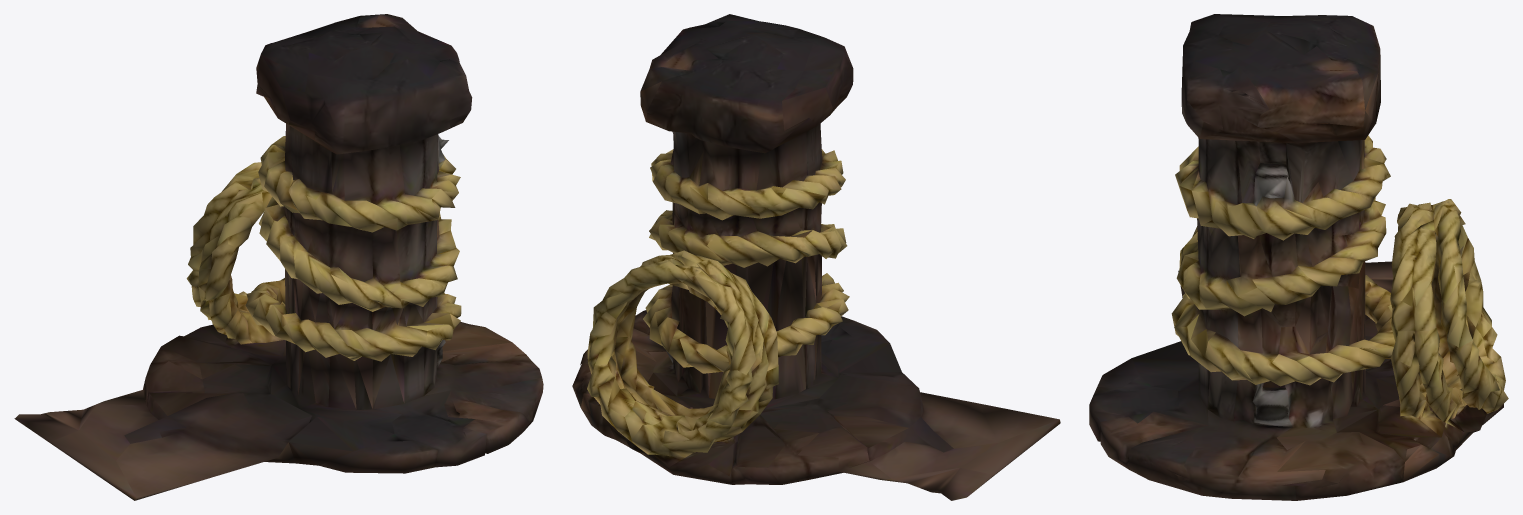
The model's file is mooring-ropes.glb.
3 renders of one model, left to right at view 1: azimuth 30°, elevation 25°; view 2: azimuth 150°, elevation 25°; view 3: azimuth 270°, elevation 25°, orthographic. The views are drawn at different scales.
Parts seen in each view (by area): view 1: tripo_node_429261a7-1be8-49d7-bd56-2187deaf8556; view 2: tripo_node_429261a7-1be8-49d7-bd56-2187deaf8556; view 3: tripo_node_429261a7-1be8-49d7-bd56-2187deaf8556.
Part boxes in pixels (box(x1,y1,x2,y2)): tripo_node_429261a7-1be8-49d7-bd56-2187deaf8556: box(14, 14, 543, 500); tripo_node_429261a7-1be8-49d7-bd56-2187deaf8556: box(572, 14, 1060, 500); tripo_node_429261a7-1be8-49d7-bd56-2187deaf8556: box(1089, 14, 1508, 500).
Bounding box in the file's own units: 0.7611 × 0.6 × 0.5807.
1 material, 1 textured.
